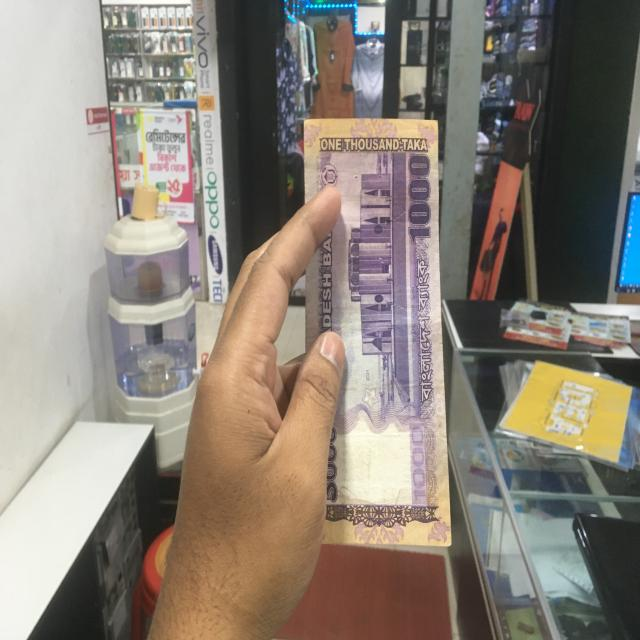Taka: (298, 116, 454, 550)
